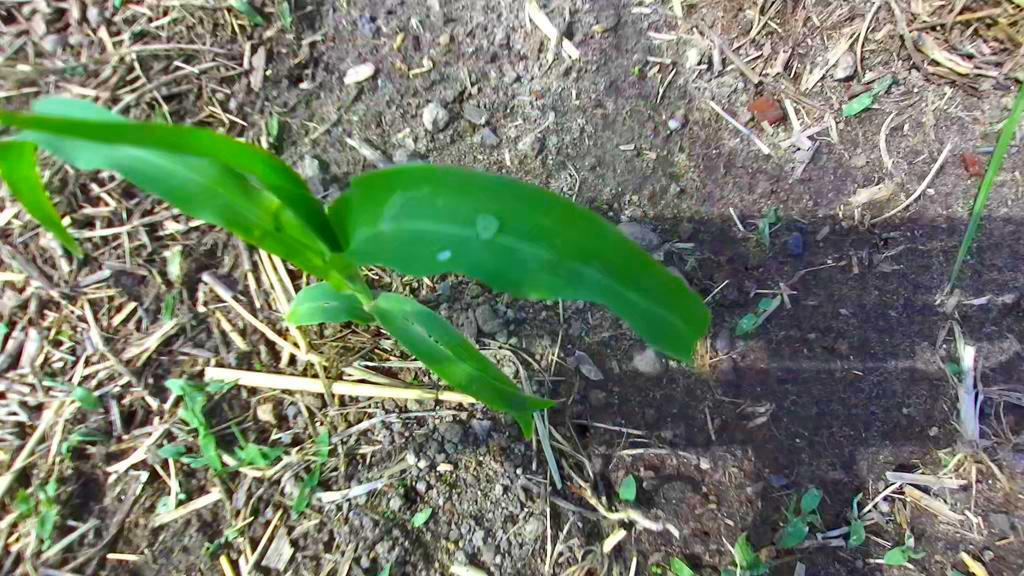BroWeed: (215, 437, 290, 486), (39, 369, 111, 417), (836, 74, 897, 121), (179, 366, 242, 410), (54, 418, 107, 468), (875, 527, 927, 576), (723, 530, 770, 576), (289, 460, 326, 515), (198, 519, 246, 558), (36, 479, 61, 551), (219, 424, 261, 466), (790, 484, 824, 531), (162, 247, 183, 321), (748, 201, 780, 248), (196, 424, 222, 473), (162, 376, 224, 396), (150, 487, 190, 516), (772, 522, 812, 551), (847, 490, 866, 550), (401, 503, 437, 533), (180, 396, 206, 437), (728, 309, 761, 339), (10, 484, 37, 520), (311, 424, 332, 470), (177, 448, 210, 474), (262, 113, 287, 145), (590, 14, 623, 38), (143, 98, 168, 129), (666, 554, 697, 576), (618, 472, 637, 505), (157, 439, 186, 460), (784, 492, 800, 529), (754, 294, 774, 320), (941, 560, 968, 576), (57, 320, 77, 341), (936, 446, 956, 467), (255, 343, 272, 367), (377, 557, 398, 576), (944, 357, 962, 377), (675, 551, 691, 572), (631, 57, 646, 79), (66, 65, 86, 76), (648, 563, 664, 576), (393, 477, 408, 490), (981, 548, 996, 561), (444, 539, 457, 553), (907, 532, 916, 551), (960, 252, 973, 265), (250, 360, 263, 372), (720, 568, 735, 576), (382, 510, 393, 520), (113, 0, 122, 9), (387, 512, 396, 521)
Maize: (0, 6, 737, 486)
